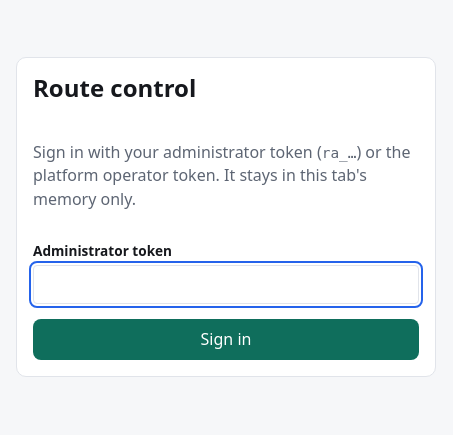
Test: a rejected token shows a clear message and keeps the user on the sign-in form
Type "wrong" into the password field labelled "Administrator token" at (226,285), box [33, 265, 419, 304]
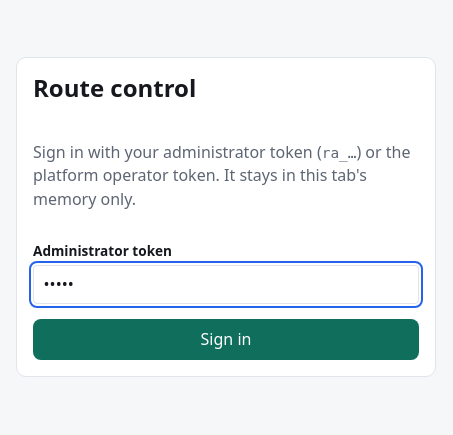
Click the button "Sign in" at (226,339), box [33, 319, 419, 360]
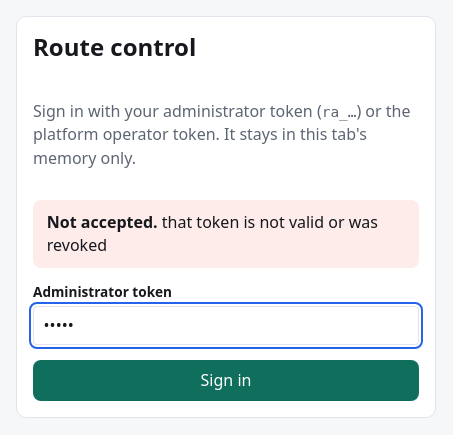
Now the message shows "not valid", box [47, 211, 378, 256]
